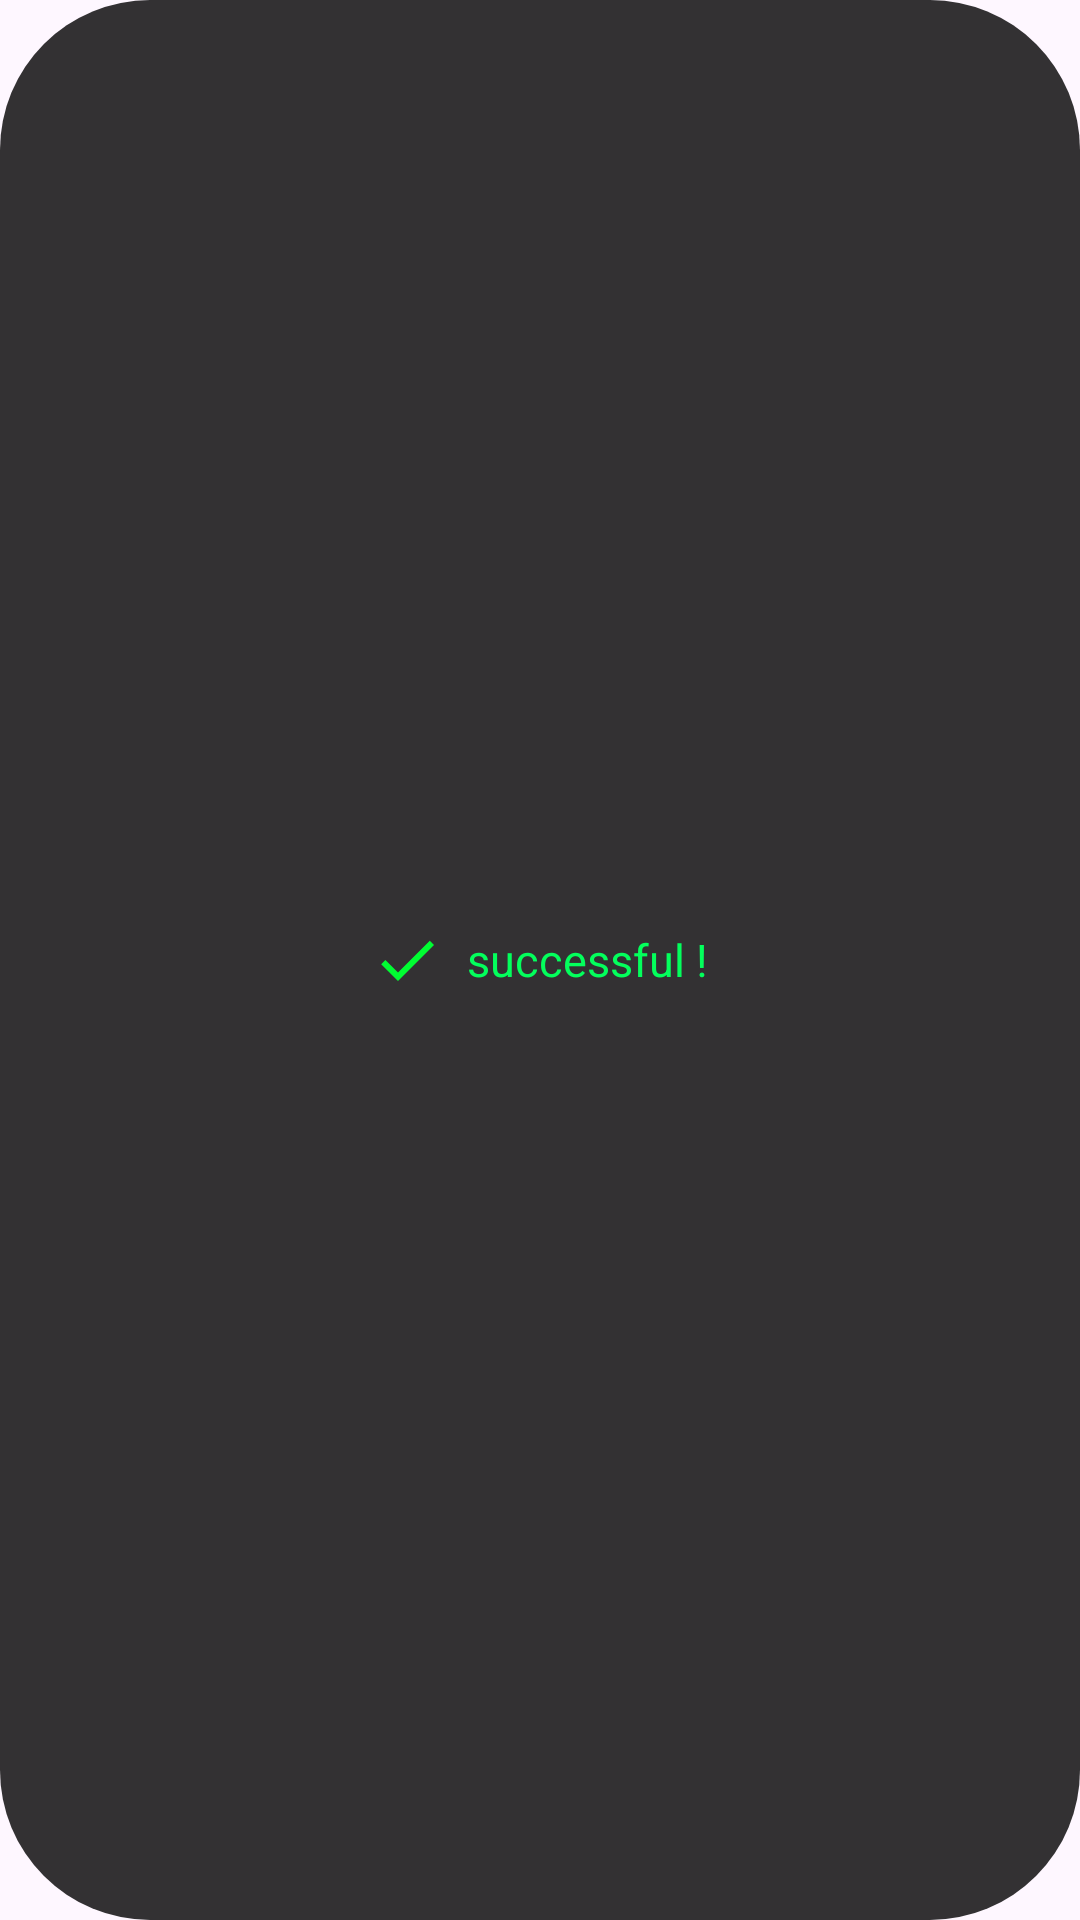

Icon click points for this 1080 × 1920 phone screenshot, format point (x, y):
correct: point (407, 961)
